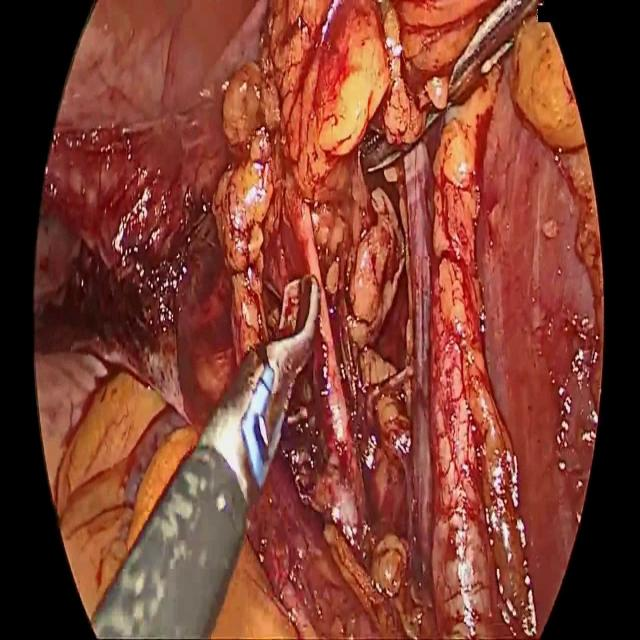surgical-area: (34, 0, 604, 639)
surgical-tool: (90, 273, 321, 639), (447, 0, 542, 109), (360, 131, 402, 172)
